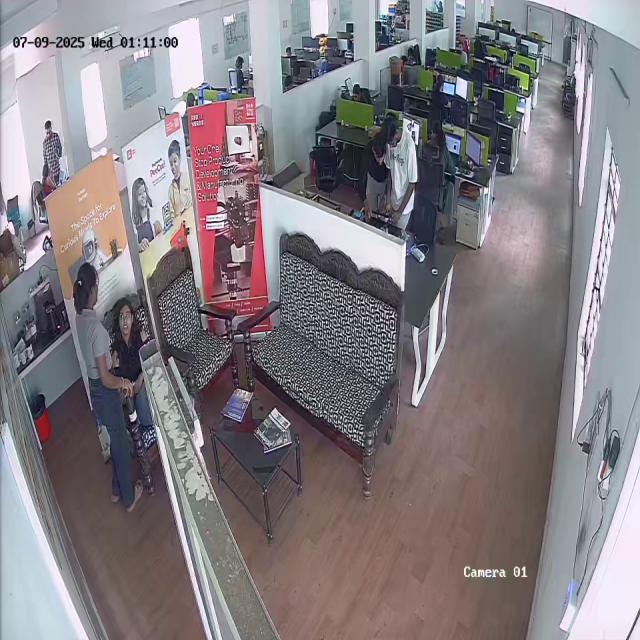person: (70, 263, 112, 459), (113, 297, 153, 426), (380, 118, 418, 236), (358, 131, 390, 213), (426, 122, 455, 212), (42, 119, 64, 173), (430, 75, 452, 115), (39, 163, 57, 200)
